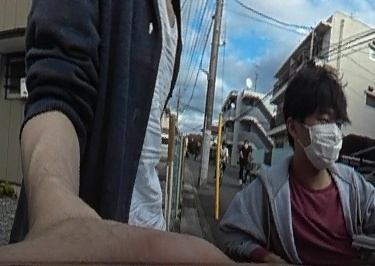person: (227, 66, 375, 266), (238, 140, 250, 180), (215, 138, 227, 176)
